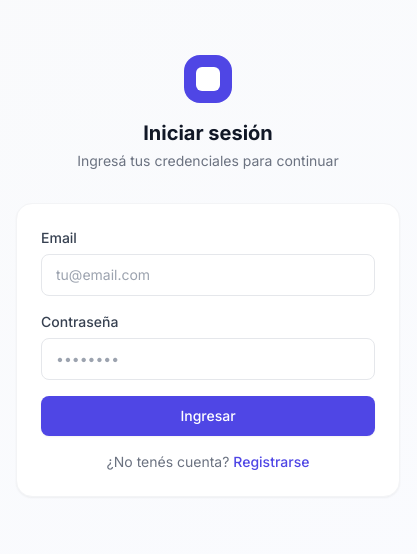
AuthenticationPage › shows error for password shorter than 6 characters
In the field labelled "Email": [208, 275] box [41,254,375,296], type "test@test.com"
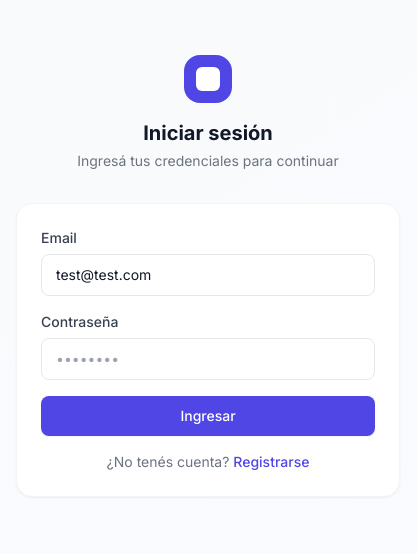
In the password field labelled "Contraseña": [208, 359] box [41,338,375,380], type "123"
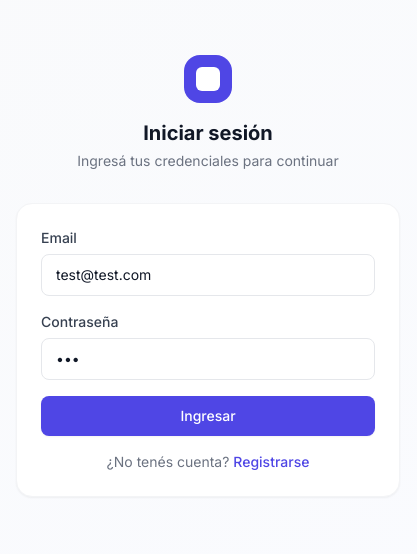
Click the button "Ingresar": [208, 416] box [41,396,375,436]
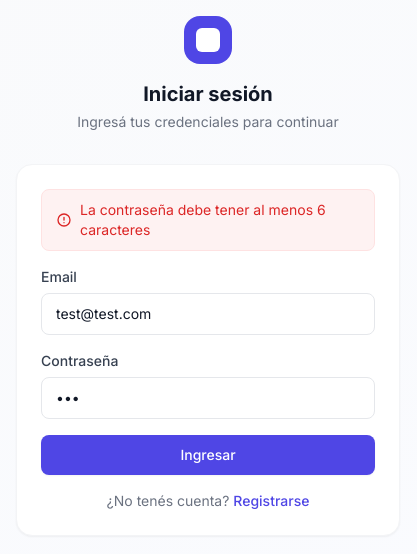
Result: the text "La contraseña debe tener al menos 6 caracteres" is shown at [80,200,360,240]
